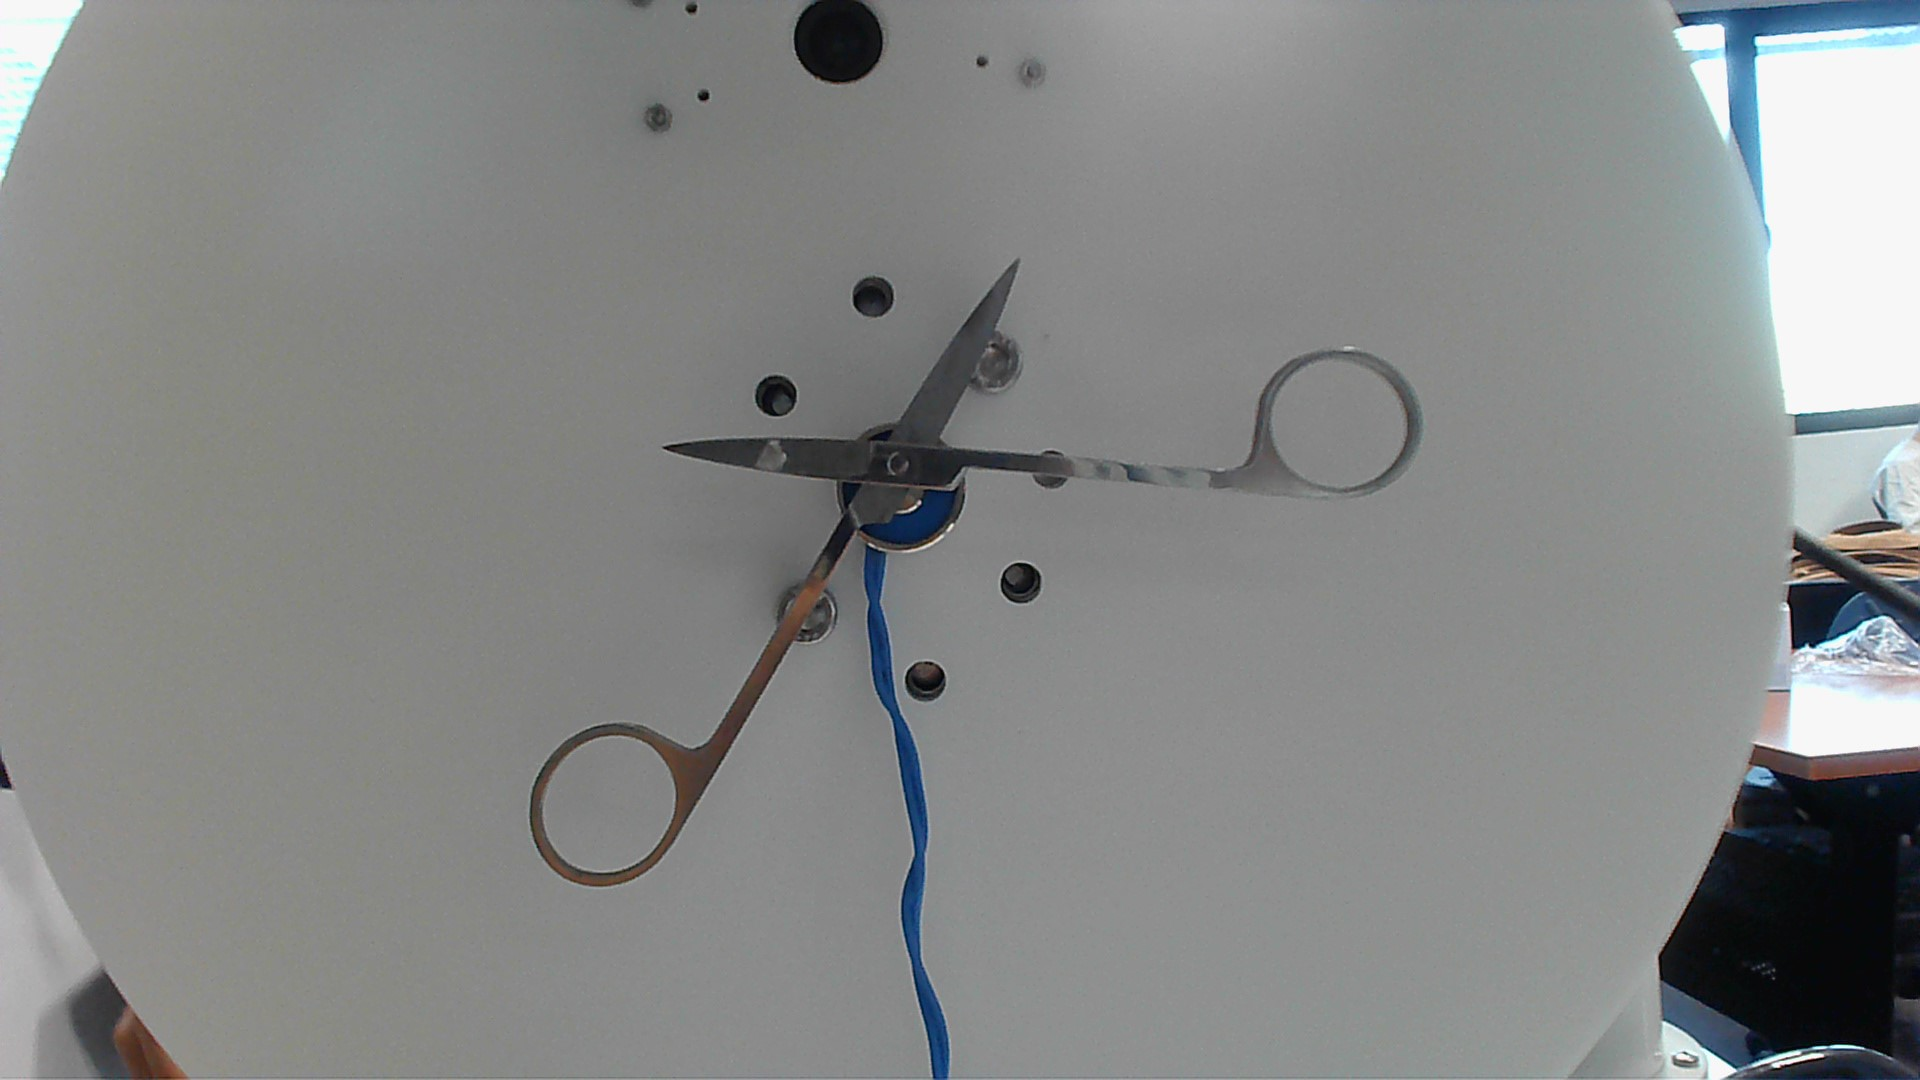Tissues: (754, 436, 789, 484)
